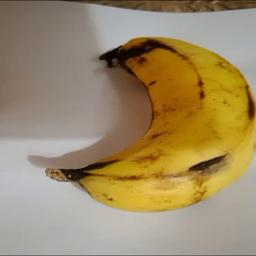Banana Unripe: (42, 35, 256, 213)
